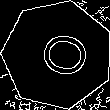O_W: (27, 28, 88, 82)
